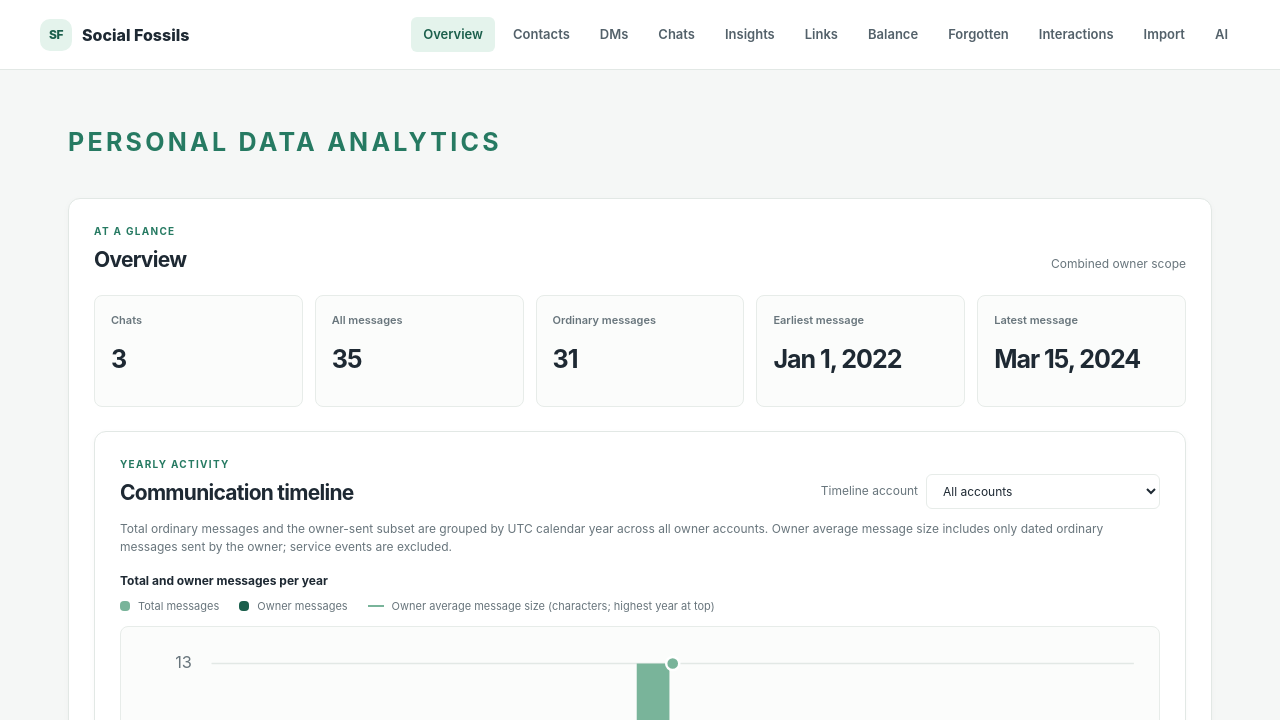
communication balance dashboard › shows text volume, API shares, date values, and supplementary message counts
Expected: the heading "All messages" is shown, [332,313,403,327]
Click the tab "Balance" at (893, 35), box [856,17,930,52]
(page scrolled)
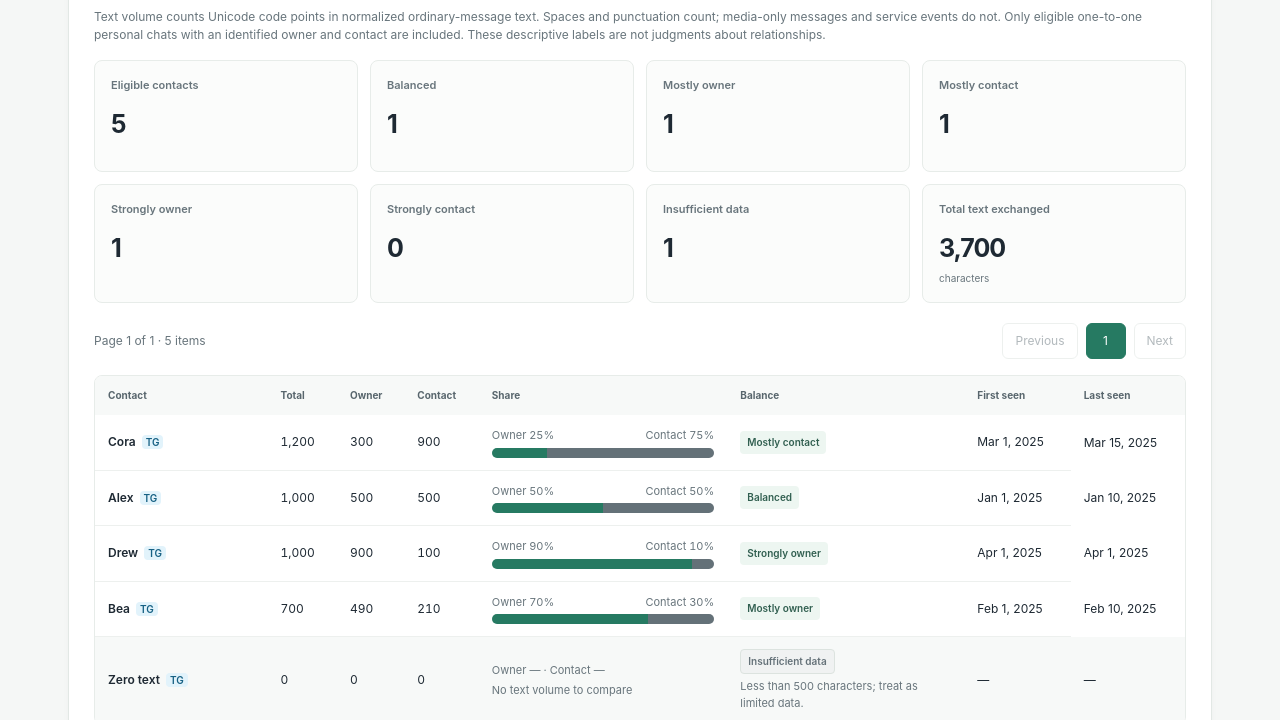
Expected: the row "Alex" shows "1,000", [280,490,315,505]
Expected: the row "Alex" shows "500", [350,490,373,505]
Expected: the row "Alex" shows "Balanced", [747,491,792,503]
